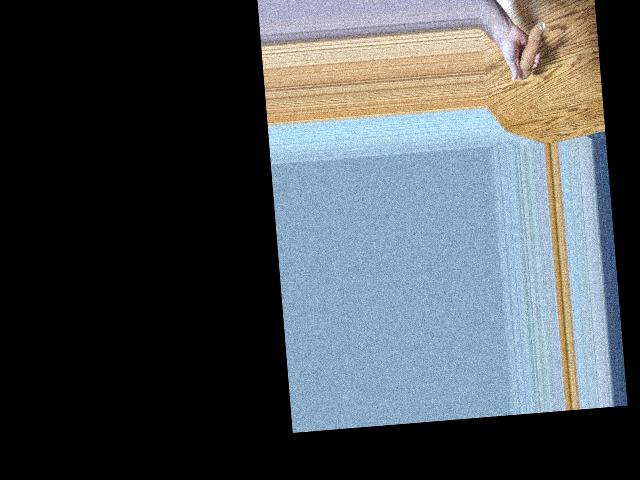sweet_potato: (515, 21, 549, 82)
